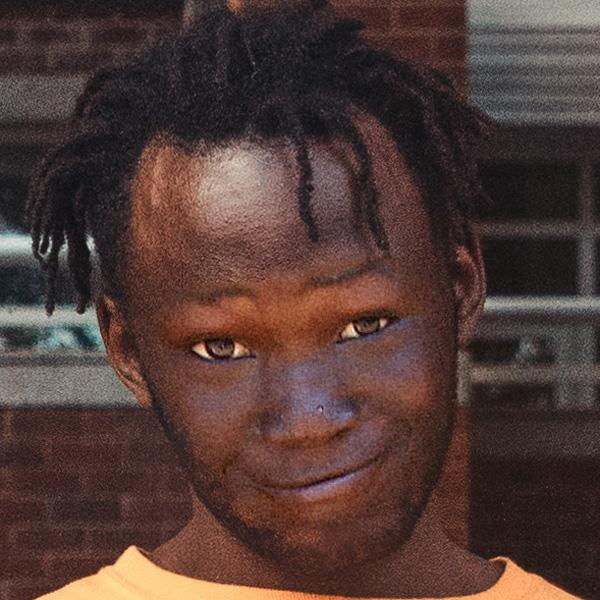Eyes: (325, 295, 406, 354), (178, 323, 264, 375)
